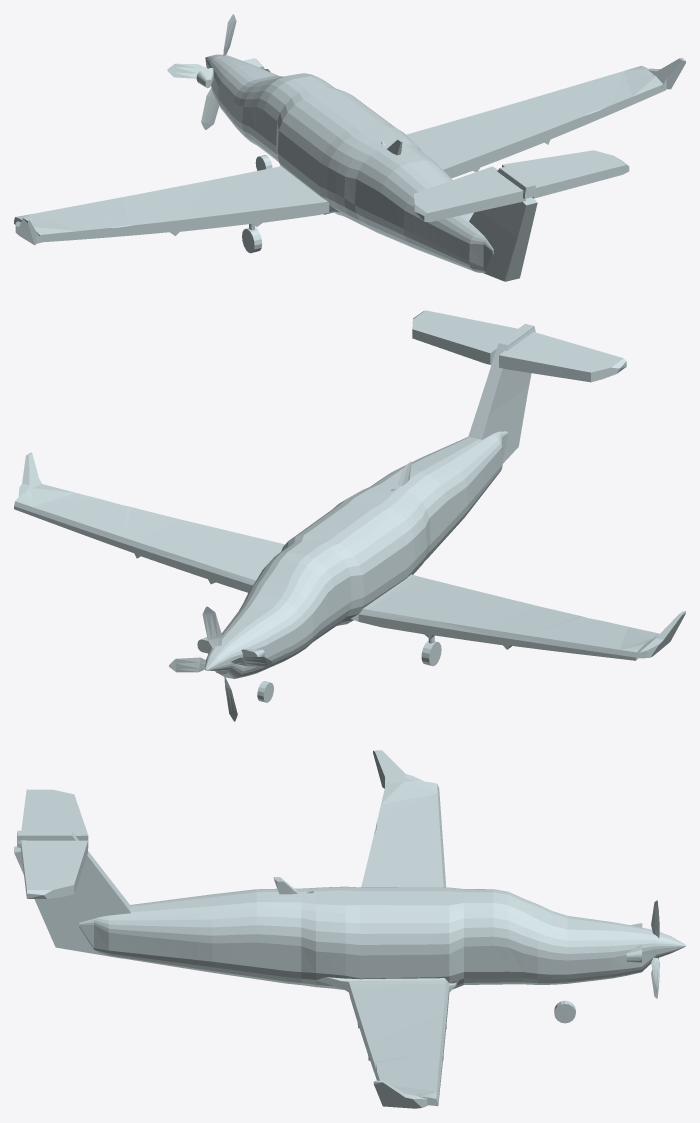
The picture shows the model from 3 angles, top to bottom: view 1: azimuth 30°, elevation 25°; view 2: azimuth 150°, elevation 25°; view 3: azimuth 270°, elevation 25°; orthographic projection. The views are drawn at different scales.
Parts seen in each view (by area): view 1: Aircraft visual hull, Rotor 1789673545640-aq9v8j68kks, Landing gear; view 2: Aircraft visual hull, Rotor 1789673545640-aq9v8j68kks, Landing gear; view 3: Aircraft visual hull, Rotor 1789673545640-aq9v8j68kks.
Part boxes in pixels (box(x1,y1,x2,y2)): Aircraft visual hull: box(14, 54, 685, 281); Rotor 1789673545640-aq9v8j68kks: box(167, 14, 270, 129); Landing gear: box(242, 155, 272, 253); Aircraft visual hull: box(14, 310, 685, 678); Rotor 1789673545640-aq9v8j68kks: box(169, 606, 272, 721); Landing gear: box(257, 636, 441, 702); Aircraft visual hull: box(14, 750, 685, 1108); Rotor 1789673545640-aq9v8j68kks: box(651, 900, 659, 998).
Size of the model in its own units: 16.33 by 4.34 by 14.
